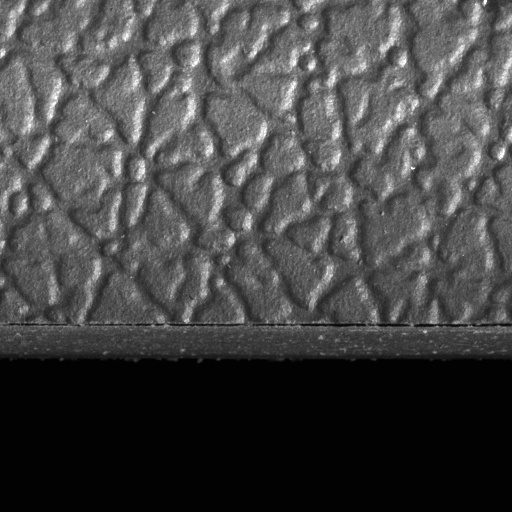jiaofeng: (211, 319, 511, 340)
